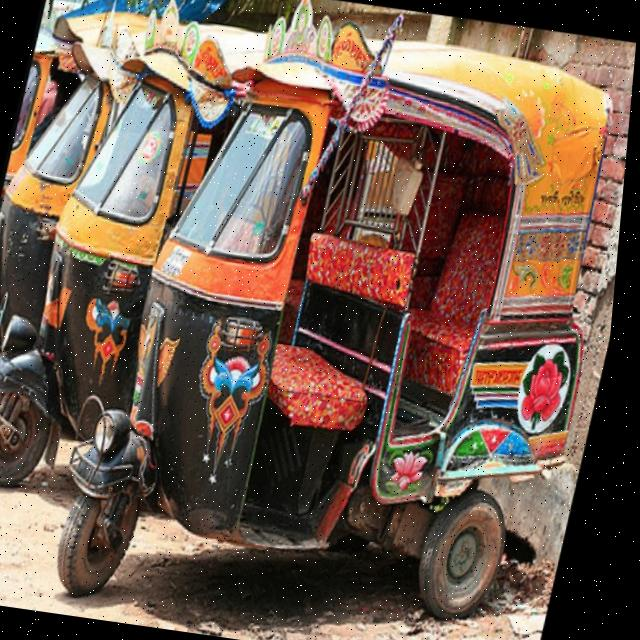cng: (137, 13, 638, 640), (0, 35, 387, 532)
